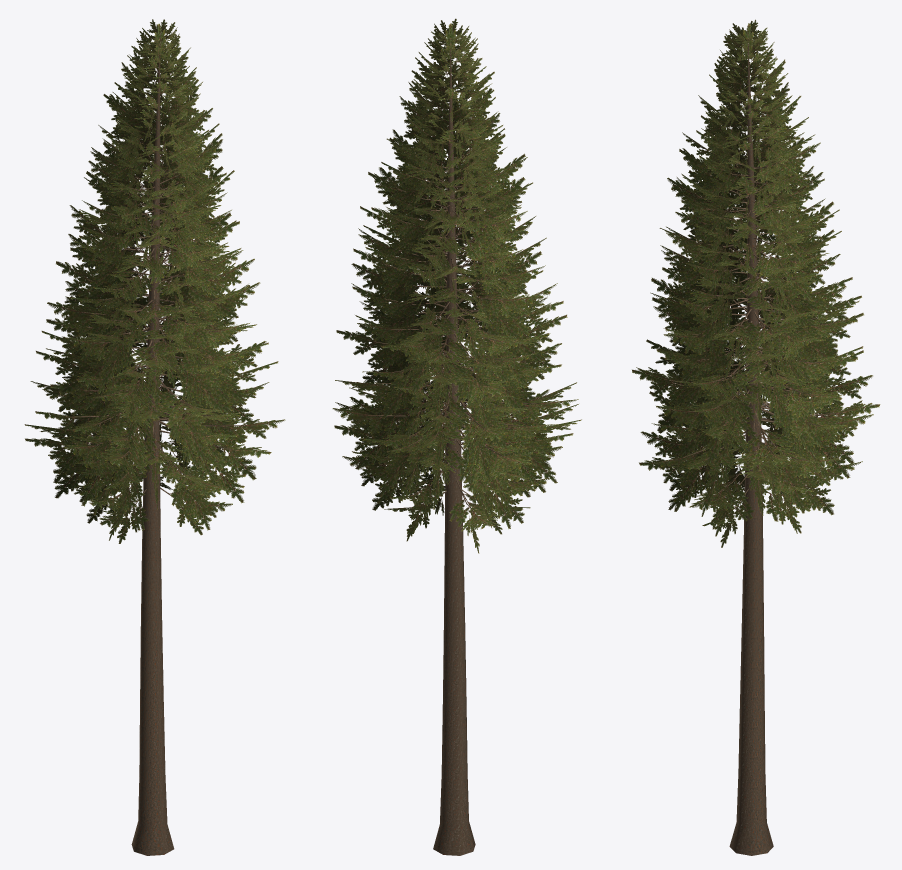
The model's file is fir_giant_b_lod1.gltf.
3 renders of one model, left to right at view 1: azimuth 30°, elevation 25°; view 2: azimuth 150°, elevation 25°; view 3: azimuth 270°, elevation 25°, orthographic.
Visible parts, largest first — view 1: fir_giant_b_LOD1; view 2: fir_giant_b_LOD1; view 3: fir_giant_b_LOD1.
Part boxes in pixels (<box>): fir_giant_b_LOD1: <box>24,19,285,855</box>; fir_giant_b_LOD1: <box>332,18,581,855</box>; fir_giant_b_LOD1: <box>632,19,880,855</box>.
Bounding box in the file's own units: 13.42 × 44.6 × 12.8.
Materials: 2 (2 with a texture image).
